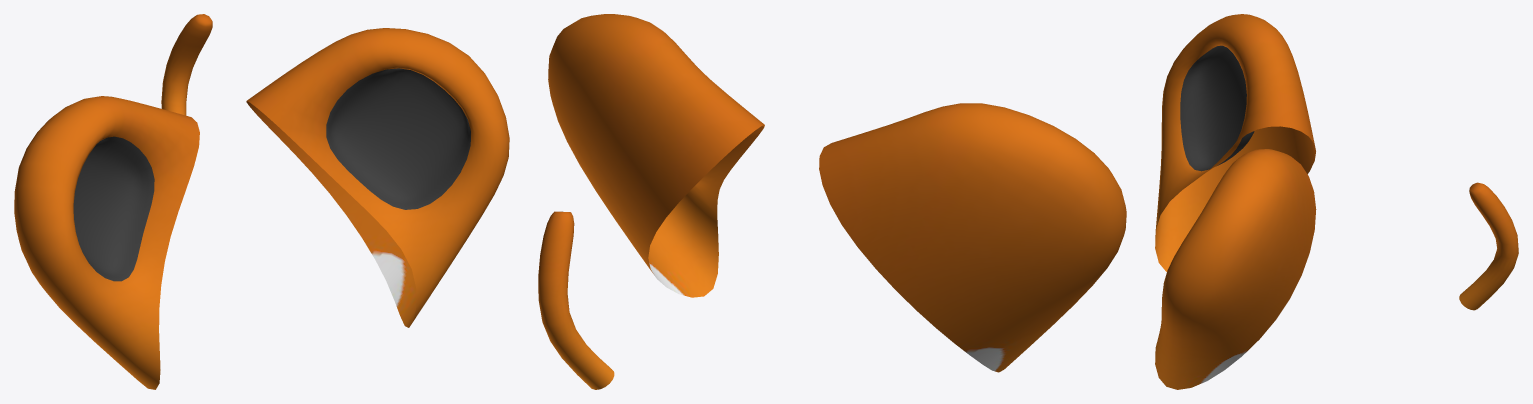
Rendered from Car_Ears.fbx.
The picture shows the model from 3 angles, left to right: view 1: azimuth 30°, elevation 25°; view 2: azimuth 150°, elevation 25°; view 3: azimuth 270°, elevation 25°; orthographic projection. The views are drawn at different scales.
Visible parts, largest first — view 1: Plane, Tail; view 2: Plane, Tail; view 3: Plane, Tail.
Boxes of the visible parts, <box> form: Plane: <box>14,28,509,389</box>; Tail: <box>161,14,212,115</box>; Plane: <box>548,14,1126,372</box>; Tail: <box>538,211,614,389</box>; Plane: <box>1155,14,1316,389</box>; Tail: <box>1459,182,1518,310</box>.
Bounding box in the file's own units: 0.7627 × 0.3954 × 0.5401.
1 material, 1 textured.
